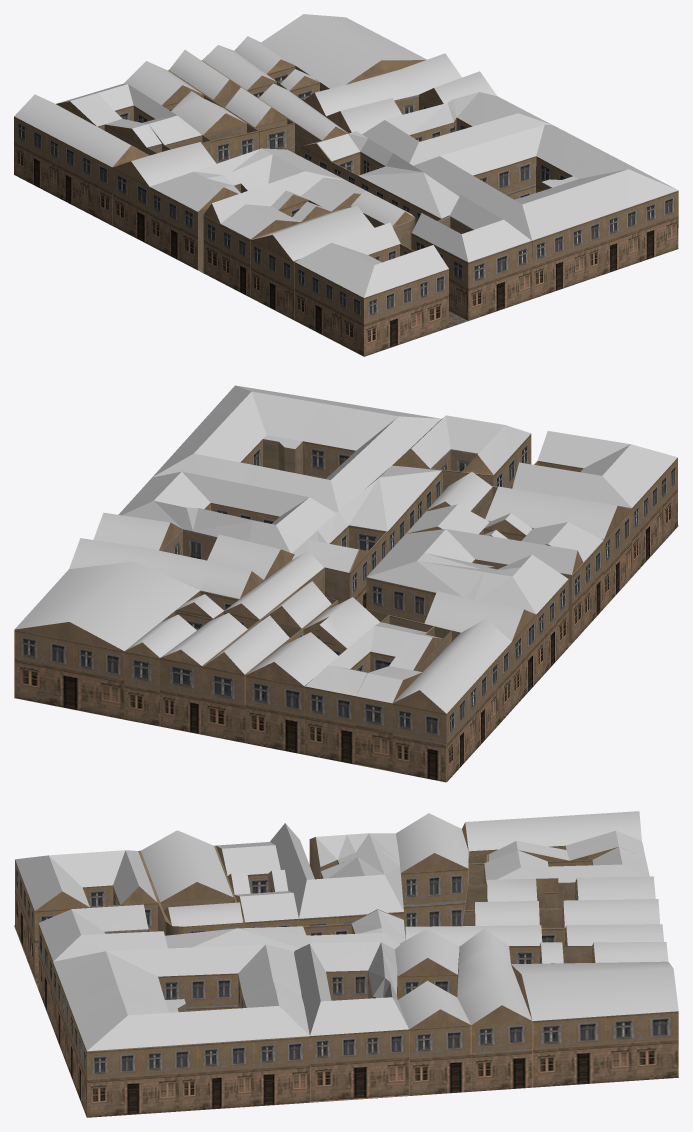
Rendered from Cours_commune_1875.dae.
The picture shows the model from 3 angles, top to bottom: view 1: azimuth 30°, elevation 25°; view 2: azimuth 150°, elevation 25°; view 3: azimuth 270°, elevation 25°; orthographic projection. The views are drawn at different scales.
Visible parts, largest first — view 1: Toit, Batiments, Face, Sol; view 2: Toit, Batiments, Face; view 3: Toit, Batiments, Face, Sol.
Part boxes in pixels (<box>): Toit: <box>14,14,677,297</box>; Batiments: <box>14,60,678,356</box>; Face: <box>56,59,443,260</box>; Sol: <box>112,193,678,356</box>; Toit: <box>14,385,677,713</box>; Batiments: <box>14,419,677,782</box>; Face: <box>15,449,630,713</box>; Toit: <box>15,811,678,1051</box>; Batiments: <box>15,839,678,1117</box>; Face: <box>35,822,617,1029</box>; Sol: <box>14,915,678,1117</box>.
Bounding box in the file's own units: 71.23 × 85.39 × 11.97.
